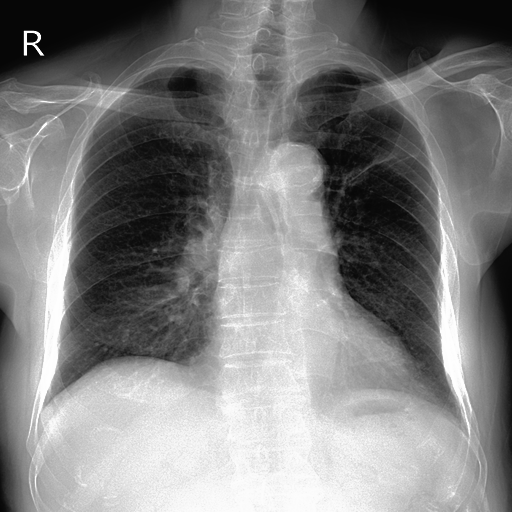Calcification: (134, 57, 224, 82), (295, 57, 373, 80)
Cardiomegaly: (325, 225, 443, 374), (69, 299, 168, 369)
Consolidation: (261, 141, 329, 198)
Nodule/Mass: (179, 325, 421, 411)
Pneumothorax: (348, 150, 421, 180)
